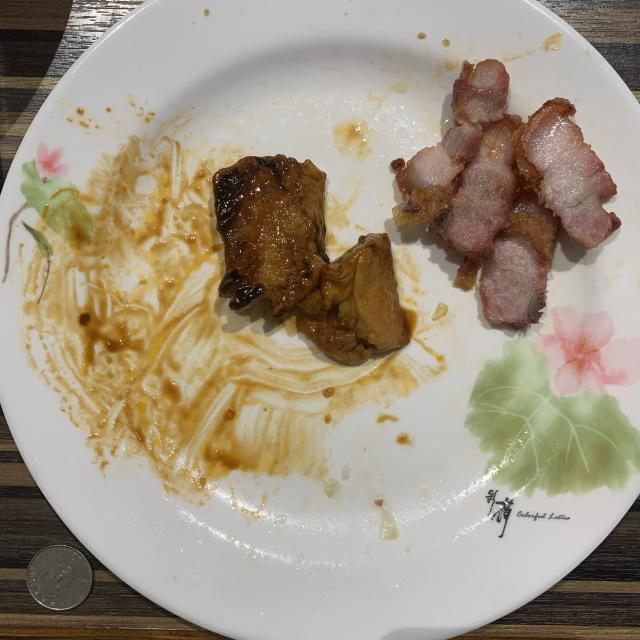coin: (26, 545, 92, 610)
creamy tofu: (212, 155, 410, 364)
red grilled pork: (391, 60, 620, 329)
